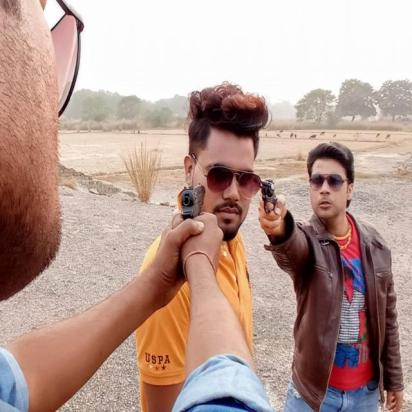Gun: (179, 182, 208, 251), (251, 174, 282, 225)
